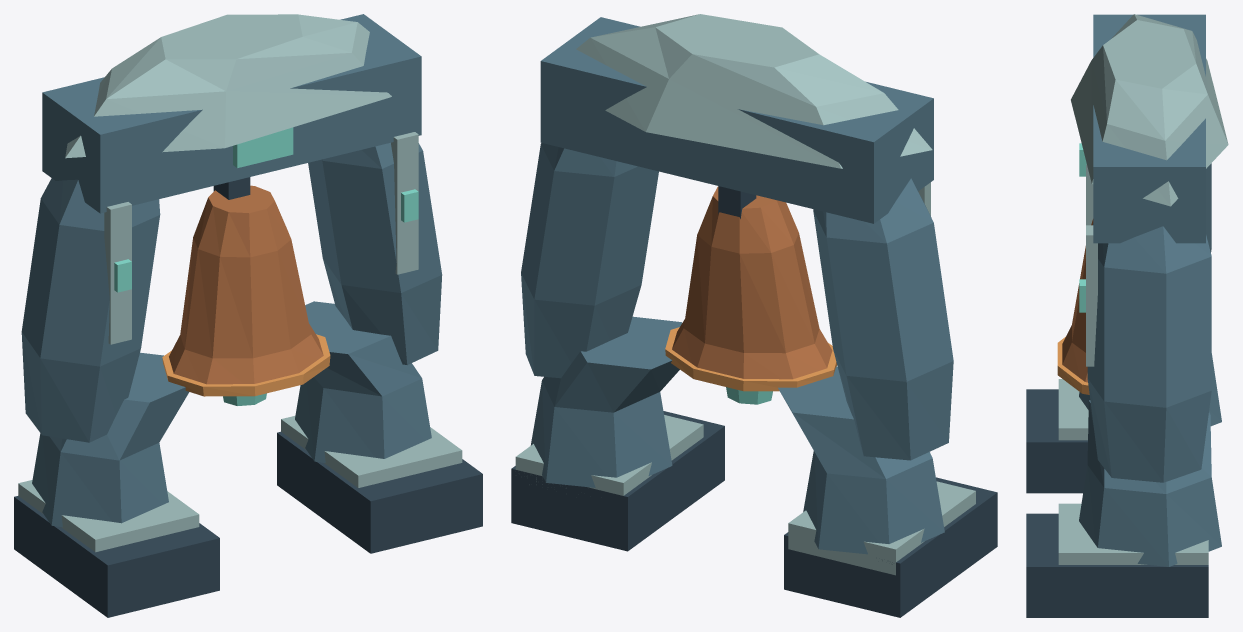
File: bellgate-model.obj
3 views of the same model, side by side, from view 1: azimuth 30°, elevation 25°; view 2: azimuth 150°, elevation 25°; view 3: azimuth 270°, elevation 25° (orthographic). The views are drawn at different scales.
Parts seen in each view (by area): view 1: Bellgate; view 2: Bellgate; view 3: Bellgate.
Part boxes in pixels (box(x1,y1,x2,y2)): Bellgate: box(14, 14, 482, 617); Bellgate: box(511, 14, 997, 617); Bellgate: box(1026, 14, 1228, 617).
Size of the model in its own units: 3.35 by 3.91 by 1.51.
